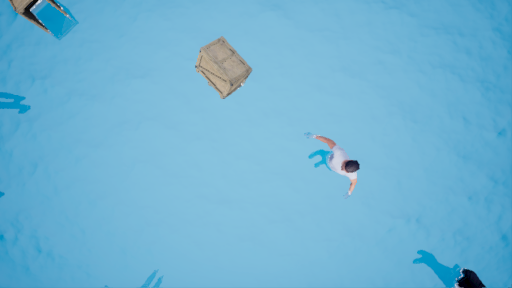person: (307, 127, 364, 199)
